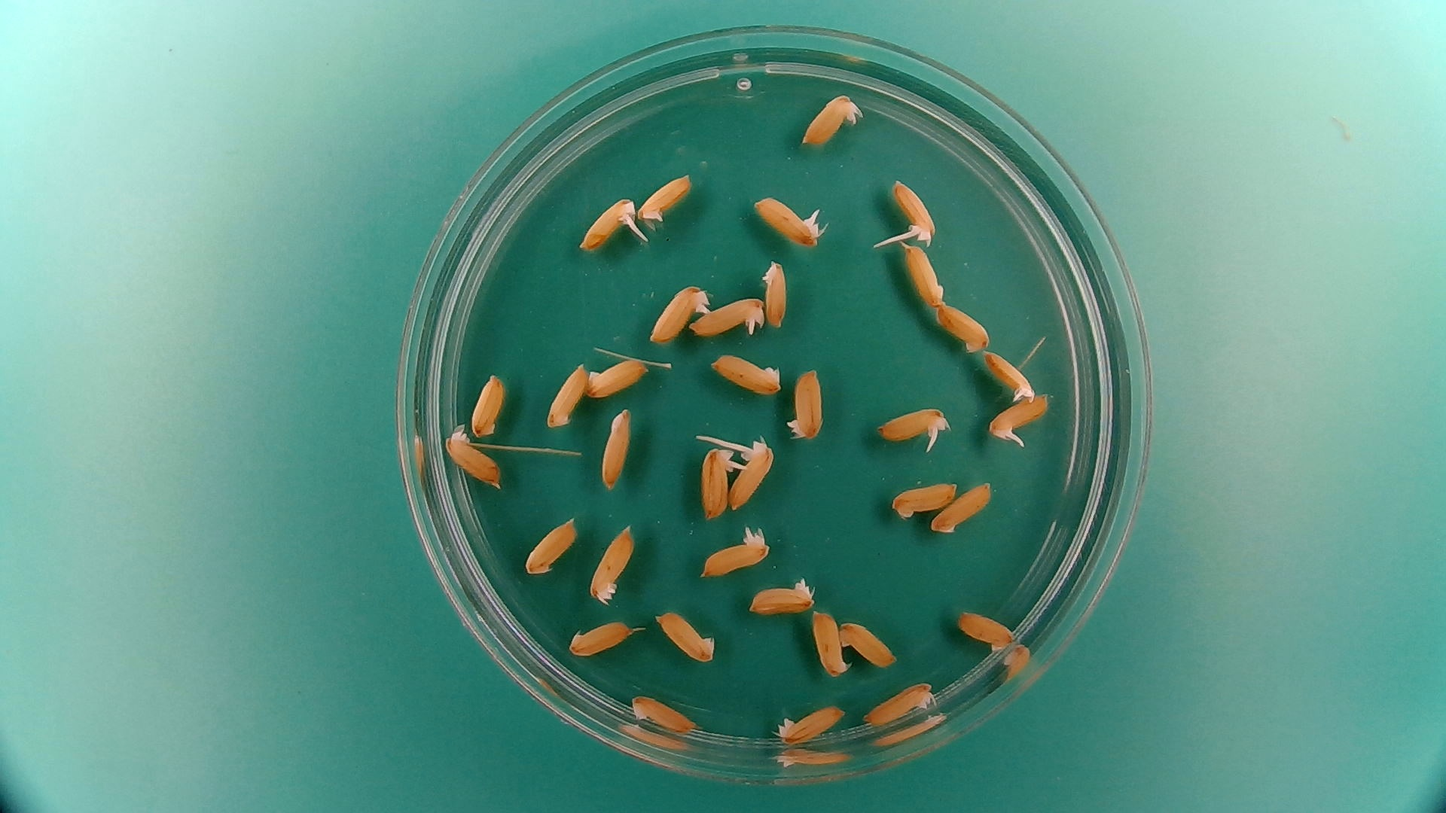no: (584, 520, 638, 607), (440, 426, 503, 490), (797, 89, 865, 148), (652, 606, 718, 665), (929, 479, 996, 537), (541, 357, 591, 432), (859, 679, 936, 727), (707, 351, 786, 396), (523, 513, 579, 576), (837, 616, 899, 671), (784, 364, 827, 442), (627, 690, 701, 735), (638, 169, 696, 226), (887, 477, 959, 522), (932, 302, 993, 355), (773, 702, 847, 745), (952, 609, 1017, 656), (747, 573, 818, 616), (810, 607, 851, 681), (902, 241, 947, 307), (585, 355, 651, 400), (599, 403, 633, 489), (566, 617, 636, 658), (469, 372, 505, 441), (758, 254, 790, 329)
yes: (750, 190, 828, 249), (872, 401, 953, 454), (576, 193, 643, 254), (698, 524, 773, 578), (728, 434, 778, 513), (648, 281, 711, 343), (889, 174, 939, 246), (697, 442, 740, 522), (688, 297, 765, 341), (987, 394, 1051, 446), (982, 348, 1040, 402)
